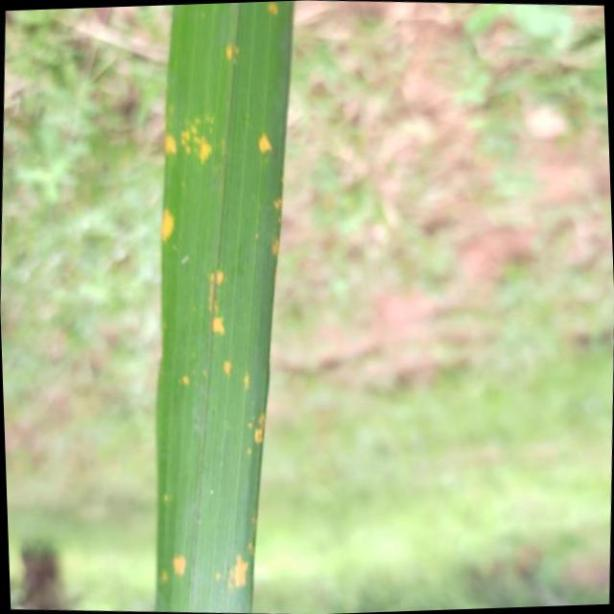Kalium: (158, 5, 298, 614)
